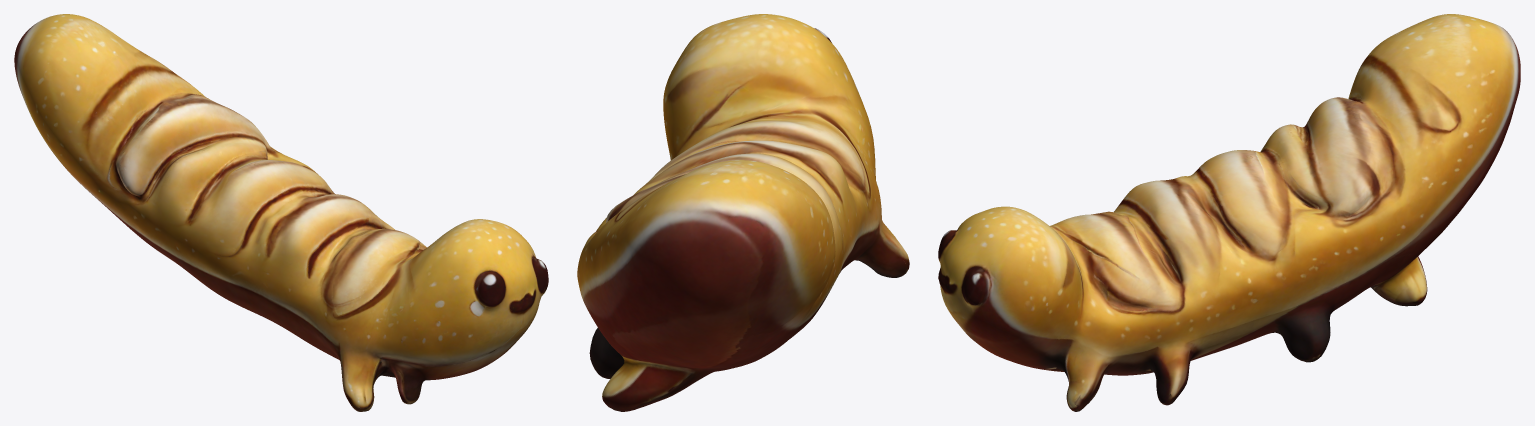
File: src_assets_ar_3dmodels_.glb
3 views of the same model, side by side, from view 1: azimuth 30°, elevation 25°; view 2: azimuth 150°, elevation 25°; view 3: azimuth 270°, elevation 25° (orthographic). The views are drawn at different scales.
Bounding box in the file's own units: 1.25 × 1.02 × 2.
Materials: 1 (1 with a texture image).
